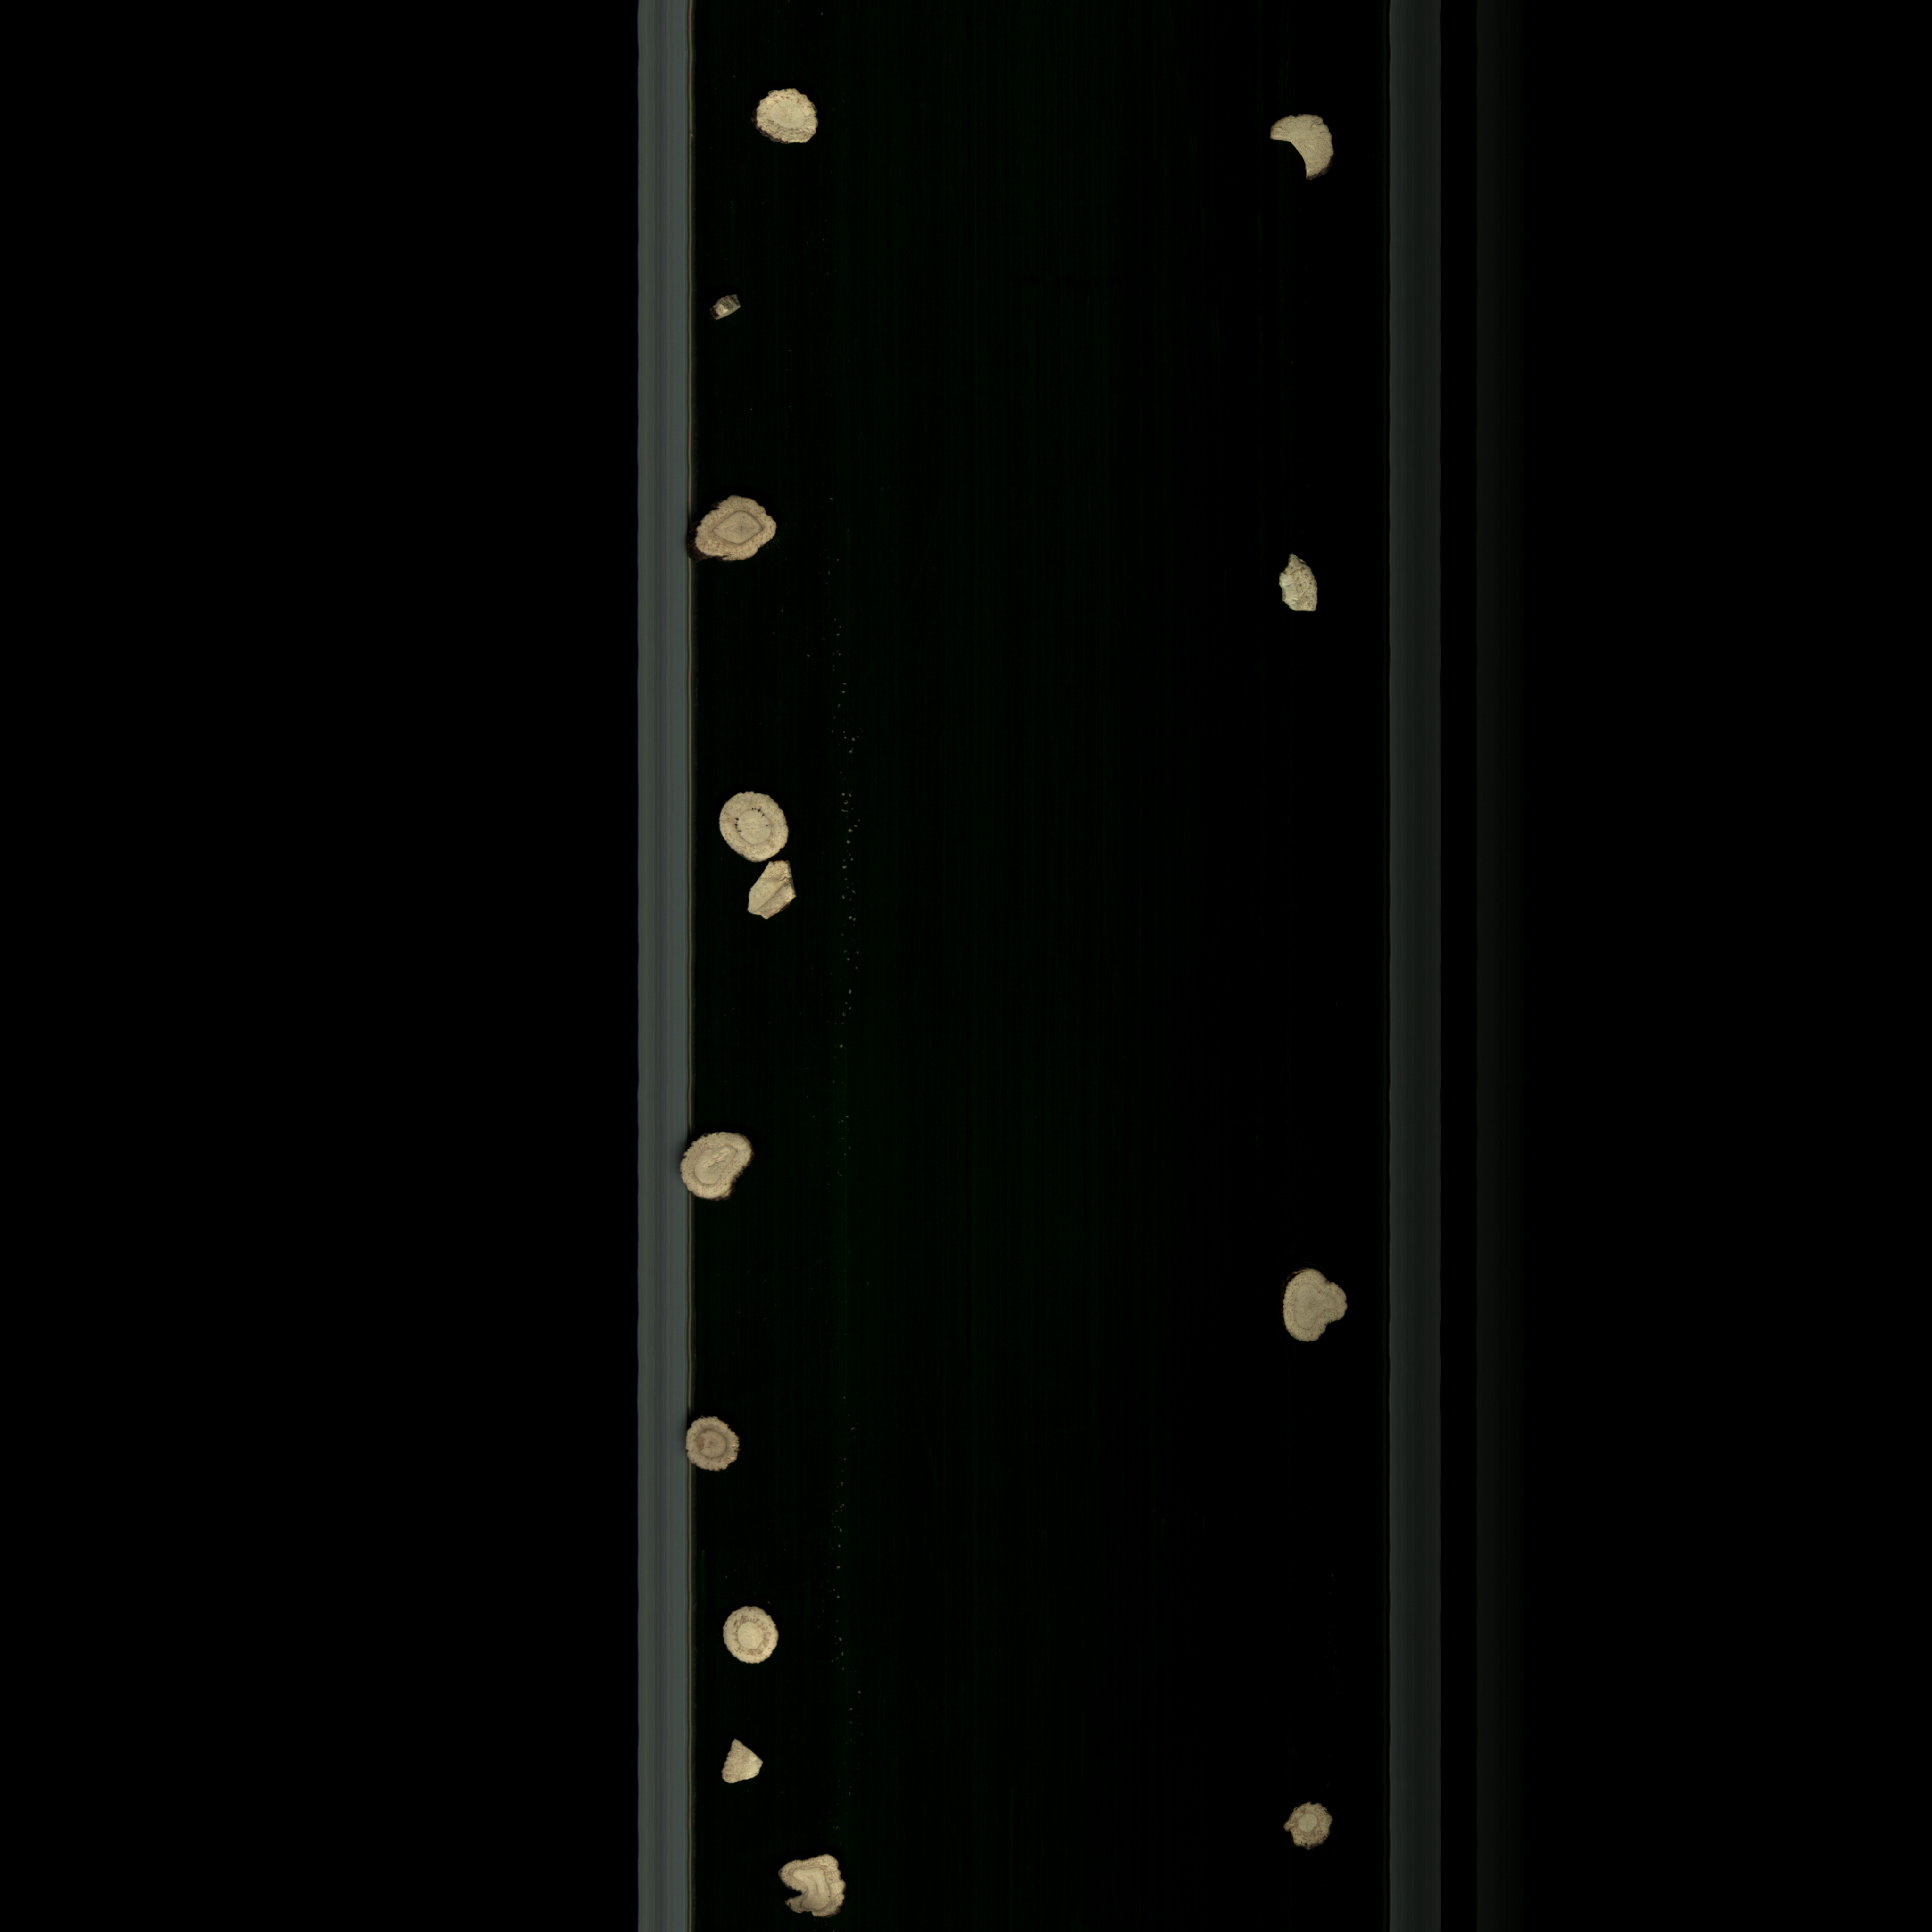debris: (1242, 99, 1350, 202), (1270, 547, 1322, 632)
distortion: (671, 1125, 775, 1214), (1269, 1260, 1359, 1361), (764, 1849, 869, 1932)
dreg: (741, 856, 805, 927), (715, 1729, 770, 1799), (701, 283, 750, 331)
hole: (706, 778, 793, 862)
moldy: (683, 490, 791, 580), (672, 1414, 745, 1481), (1276, 1794, 1341, 1867)
